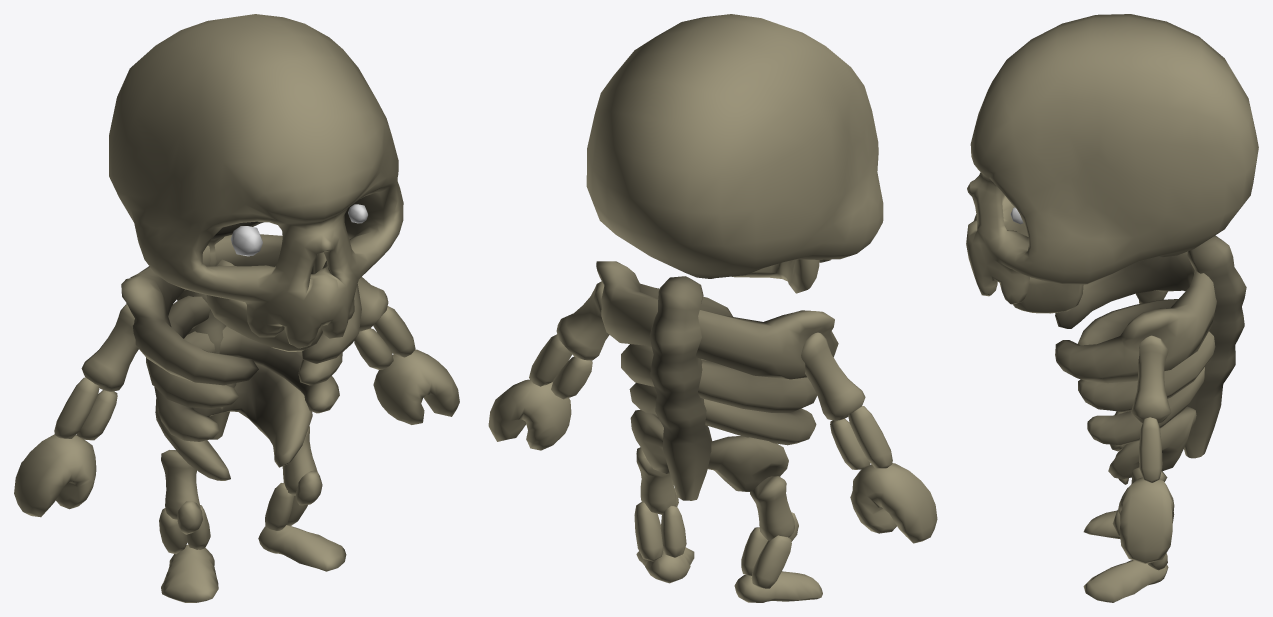
File: skeleton_smoothed 4.FBX
3 renders of one model, left to right at view 1: azimuth 30°, elevation 25°; view 2: azimuth 150°, elevation 25°; view 3: azimuth 270°, elevation 25°, orthographic. The views are drawn at different scales.
Parts seen in each view (by area): view 1: skeleton_COLLAPSED; view 2: skeleton_COLLAPSED; view 3: skeleton_COLLAPSED.
Part boxes in pixels (x1,y1,x2,y2): skeleton_COLLAPSED: (14,14,459,602); skeleton_COLLAPSED: (488,14,937,602); skeleton_COLLAPSED: (966,14,1258,602).
Size of the model in its own units: 127 by 152 by 75.81.
